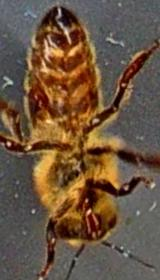varroa_mite: (14, 77, 62, 122)
